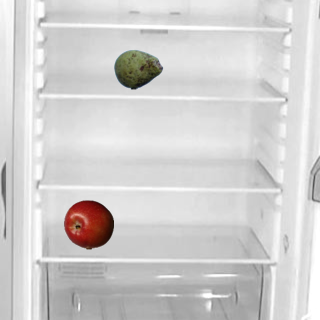Apple Braeburn: (63, 199, 113, 249)
Pear Stone: (113, 44, 163, 94)
